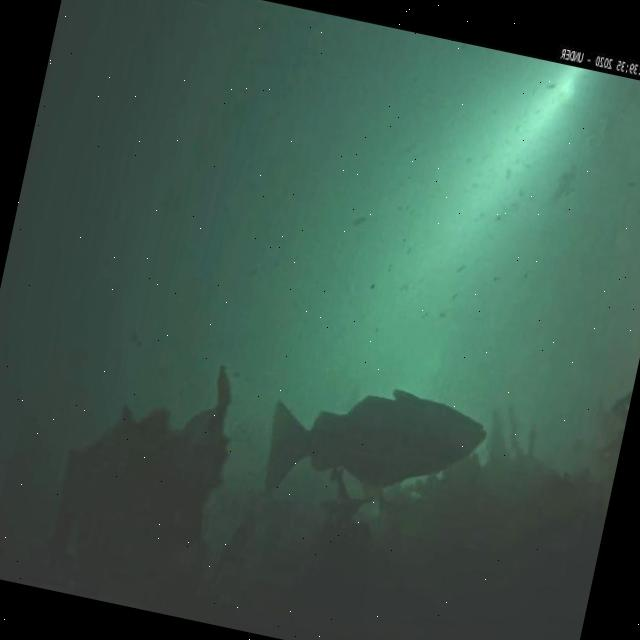fish: (258, 367, 490, 532)
